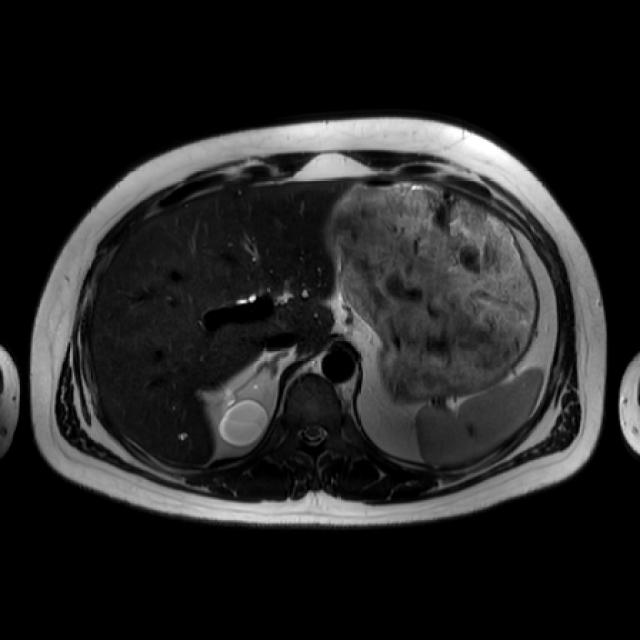sag: (220, 390, 269, 446)
